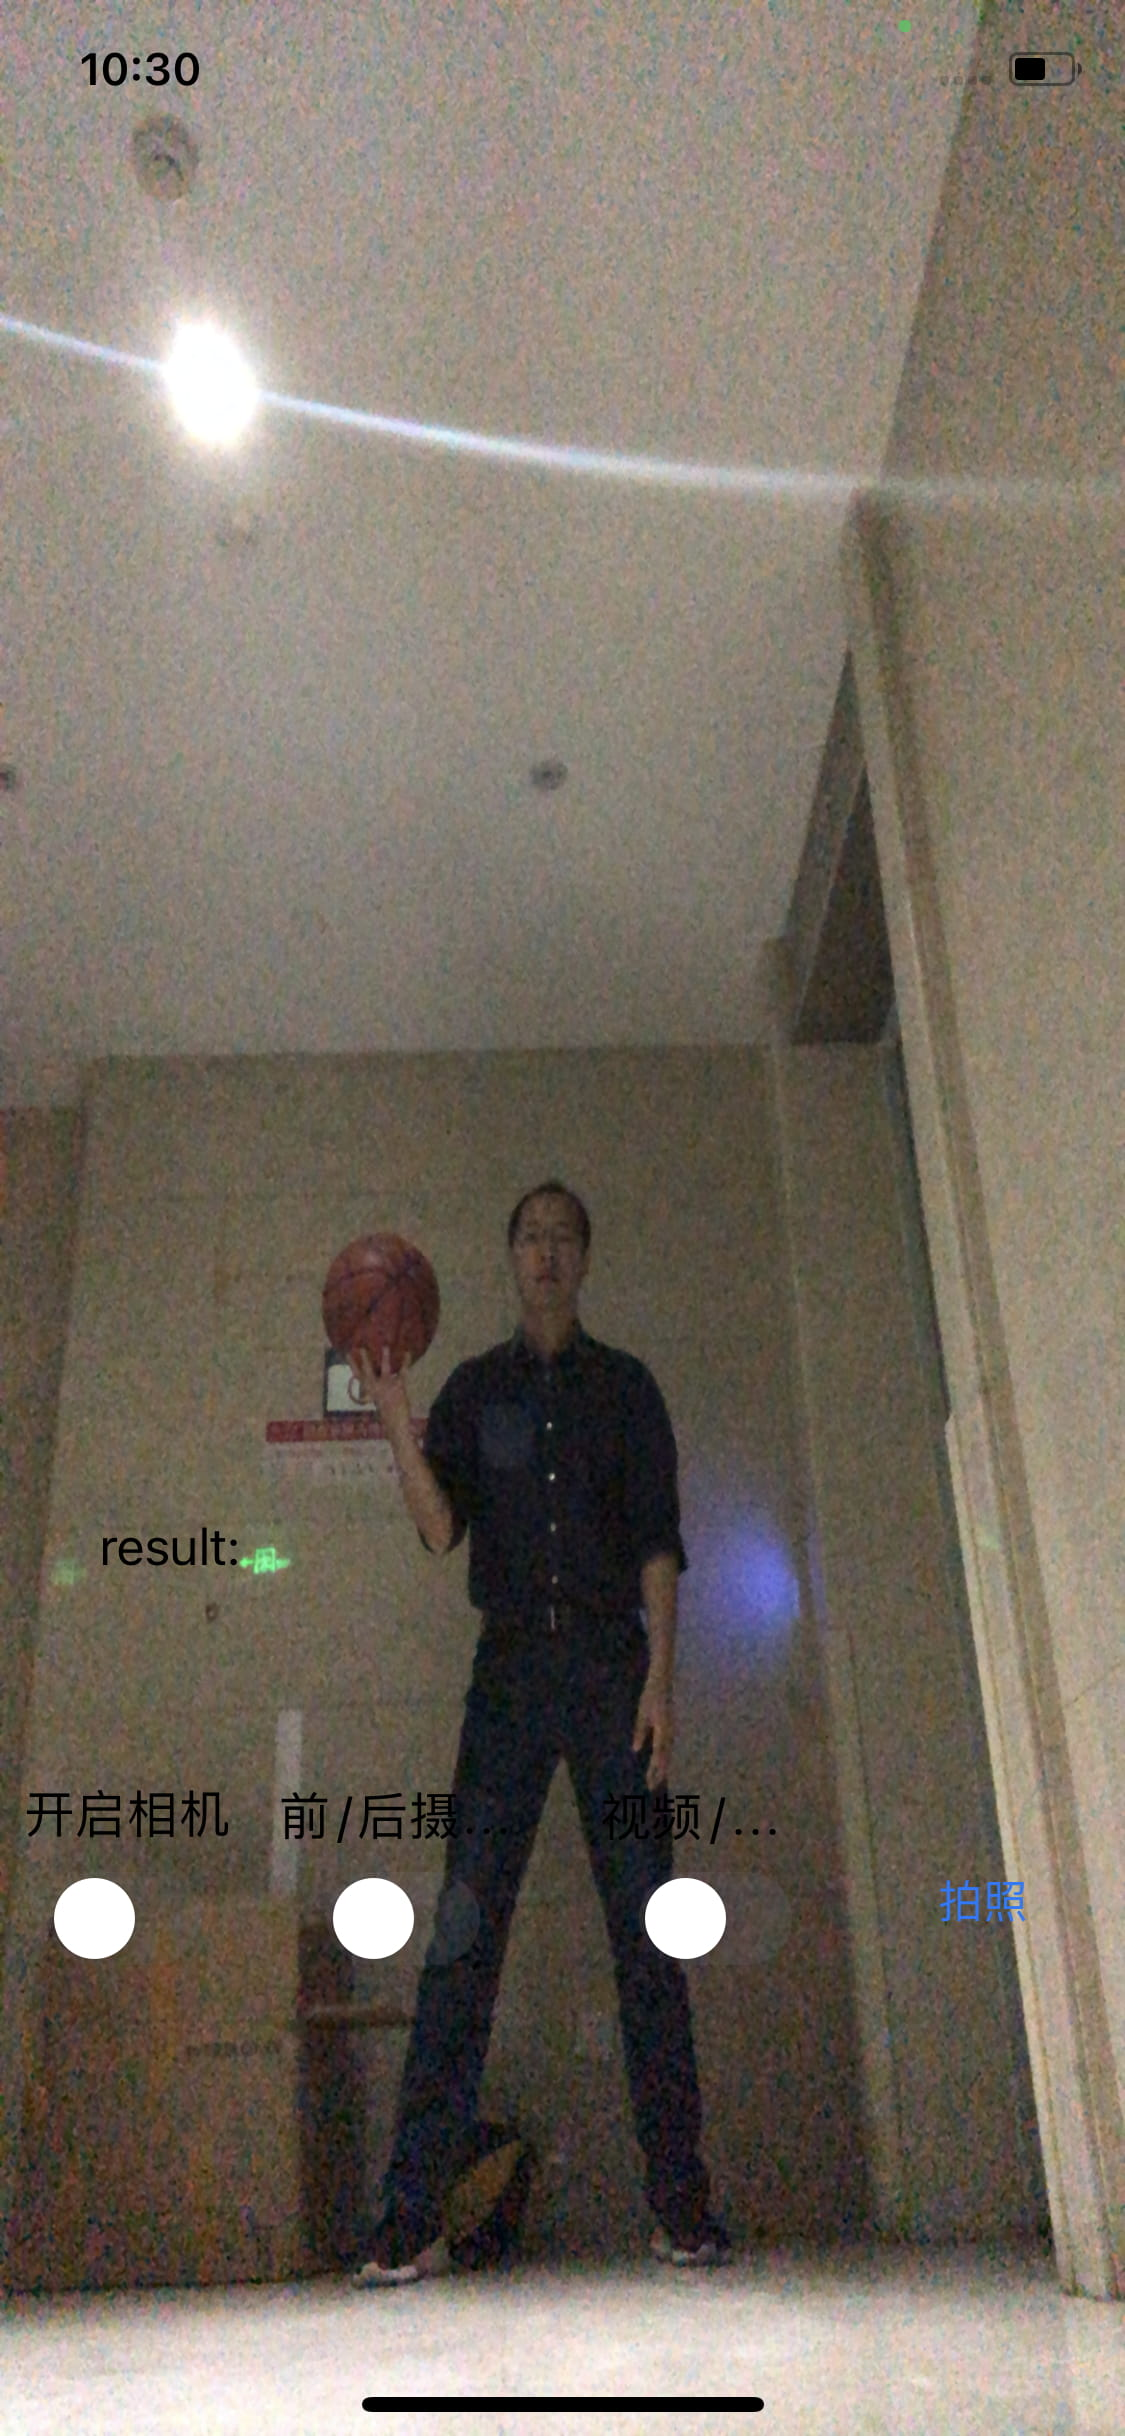ball: (322, 1234, 443, 1370)
